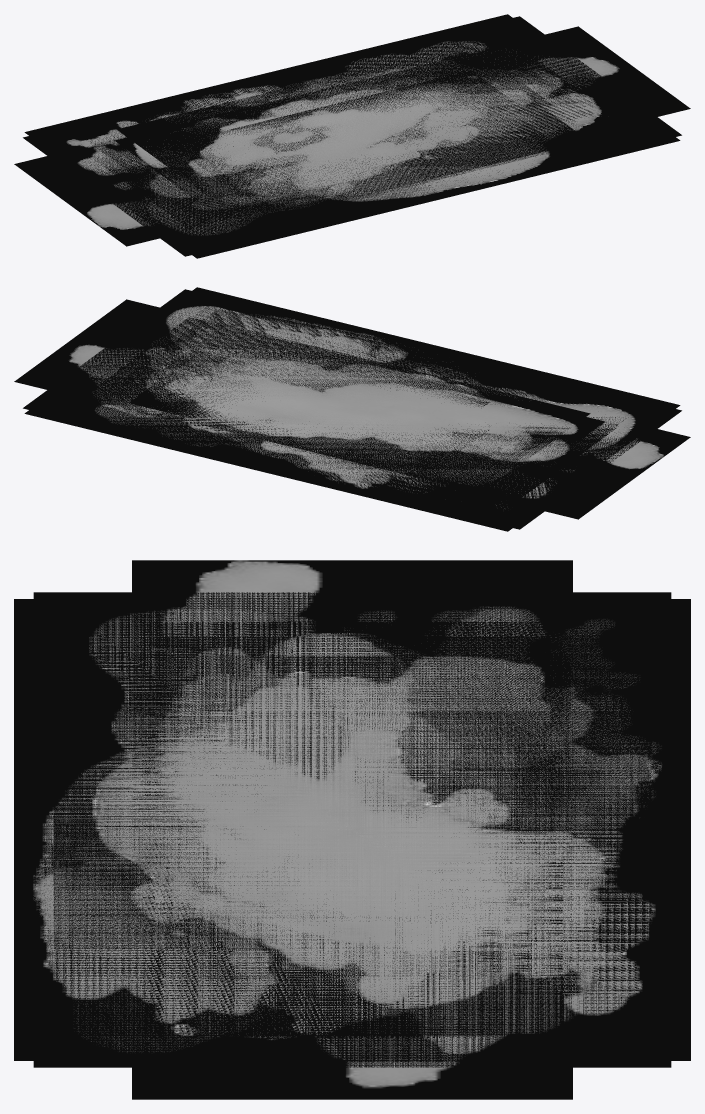
The model's file is clouds.fbx.
The picture shows the model from 3 angles, top to bottom: view 1: azimuth 30°, elevation 25°; view 2: azimuth 150°, elevation 25°; view 3: azimuth 270°, elevation 25°; orthographic projection. The views are drawn at different scales.
Visible parts, largest first — view 1: Mesh_ncl1_11, Mesh_ncl1_19, Mesh_ncl1_21, Mesh_ncl1_6, Mesh_ncl1_8, Mesh, Mesh_ncl1_7, Mesh_ncl1_5, Mesh_ncl1_1, Mesh_ncl1_2, Mesh_ncl1_3, Mesh_ncl1_12 (+5 smaller); view 2: Mesh_ncl1_7, Mesh_ncl1_5, Mesh_ncl1_1, Mesh_ncl1_2, Mesh, Mesh_ncl1_11, Mesh_ncl1_8, Mesh_ncl1_6, Mesh_ncl1_12, Mesh_ncl1_9, Mesh_ncl1_15, Mesh_ncl1_17 (+4 smaller); view 3: Mesh_ncl1_12, Mesh_ncl1_11, Mesh_ncl1_7, Mesh_ncl1_8, Mesh_ncl1_1, Mesh, Mesh_ncl1_6, Mesh_ncl1_17, Mesh_ncl1_2, Mesh_ncl1_5, Mesh_ncl1_21, Mesh_ncl1_19 (+1 smaller).
Boxes of the visible parts, <box> form: Mesh_ncl1_11: <box>24,14,680,258</box>; Mesh_ncl1_19: <box>116,48,587,225</box>; Mesh_ncl1_21: <box>175,55,560,217</box>; Mesh_ncl1_6: <box>23,16,681,256</box>; Mesh_ncl1_8: <box>14,26,690,246</box>; Mesh: <box>114,51,583,220</box>; Mesh_ncl1_7: <box>53,22,603,250</box>; Mesh_ncl1_5: <box>90,29,562,243</box>; Mesh_ncl1_1: <box>95,44,600,228</box>; Mesh_ncl1_2: <box>129,50,574,221</box>; Mesh_ncl1_3: <box>162,71,527,147</box>; Mesh_ncl1_12: <box>86,24,670,251</box>; Mesh_ncl1_7: <box>53,295,651,523</box>; Mesh_ncl1_5: <box>70,302,635,517</box>; Mesh_ncl1_1: <box>106,317,618,501</box>; Mesh_ncl1_2: <box>105,326,604,453</box>; Mesh: <box>138,324,590,493</box>; Mesh_ncl1_11: <box>24,287,680,531</box>; Mesh_ncl1_8: <box>14,299,690,519</box>; Mesh_ncl1_6: <box>23,289,681,529</box>; Mesh_ncl1_12: <box>34,299,670,523</box>; Mesh_ncl1_9: <box>129,331,323,428</box>; Mesh_ncl1_15: <box>227,335,562,485</box>; Mesh_ncl1_17: <box>258,327,518,499</box>; Mesh_ncl1_12: <box>53,598,651,1061</box>; Mesh_ncl1_11: <box>14,599,690,1060</box>; Mesh_ncl1_7: <box>20,624,684,1035</box>; Mesh_ncl1_8: <box>132,560,572,1099</box>; Mesh_ncl1_1: <box>142,622,562,1037</box>; Mesh: <box>135,655,569,1004</box>; Mesh_ncl1_6: <box>33,592,671,1067</box>; Mesh_ncl1_17: <box>69,684,635,976</box>; Mesh_ncl1_2: <box>153,636,551,919</box>; Mesh_ncl1_5: <box>40,635,664,1023</box>; Mesh_ncl1_21: <box>103,691,601,968</box>; Mesh_ncl1_19: <box>93,668,611,989</box>.
Size of the model in its own units: 6739 by 0 by 3574.
